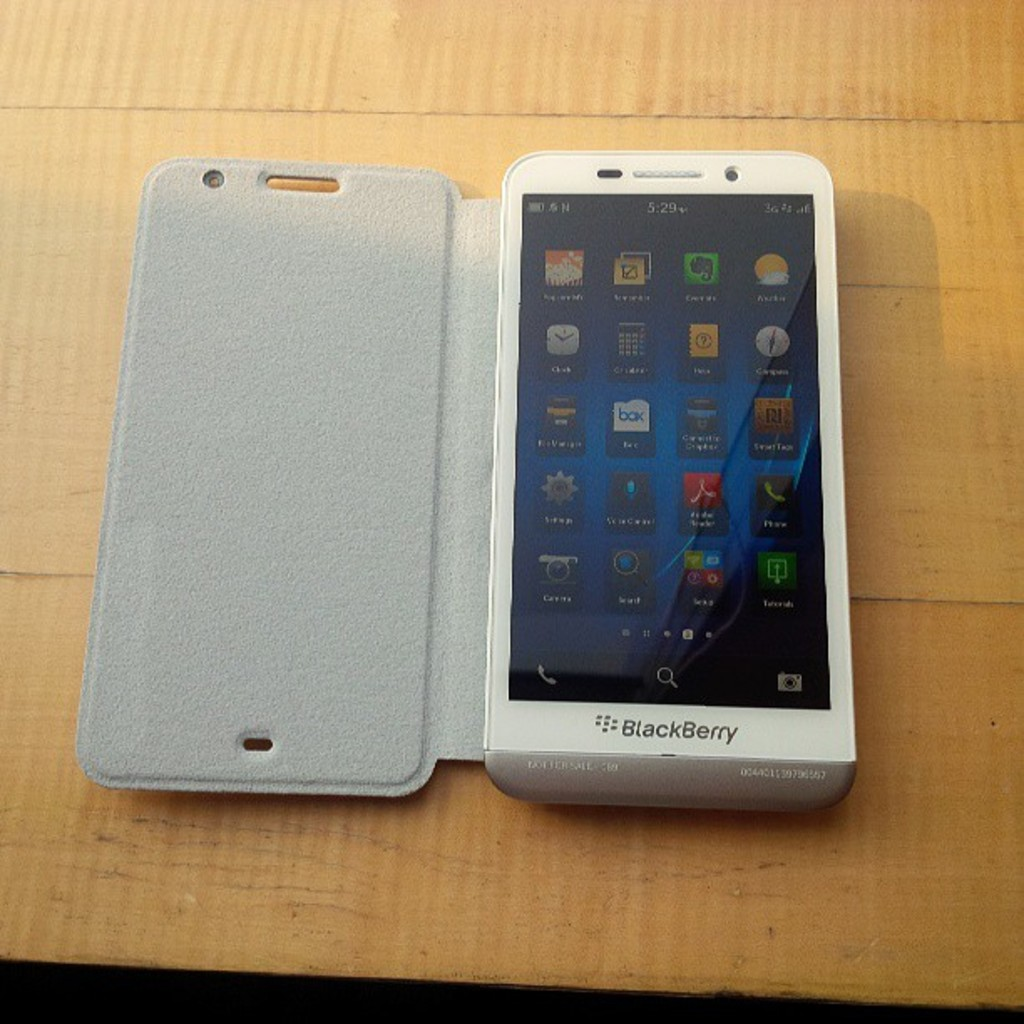mobile phone: (458, 127, 860, 823)
